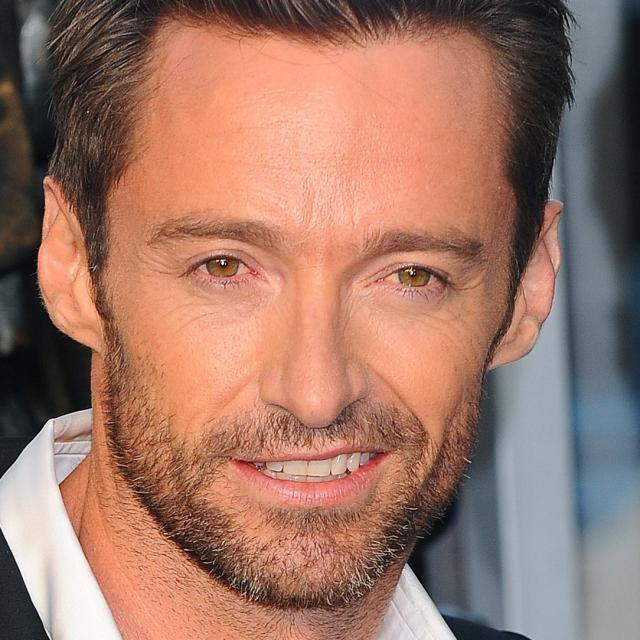Normal: (98, 16, 516, 610)
